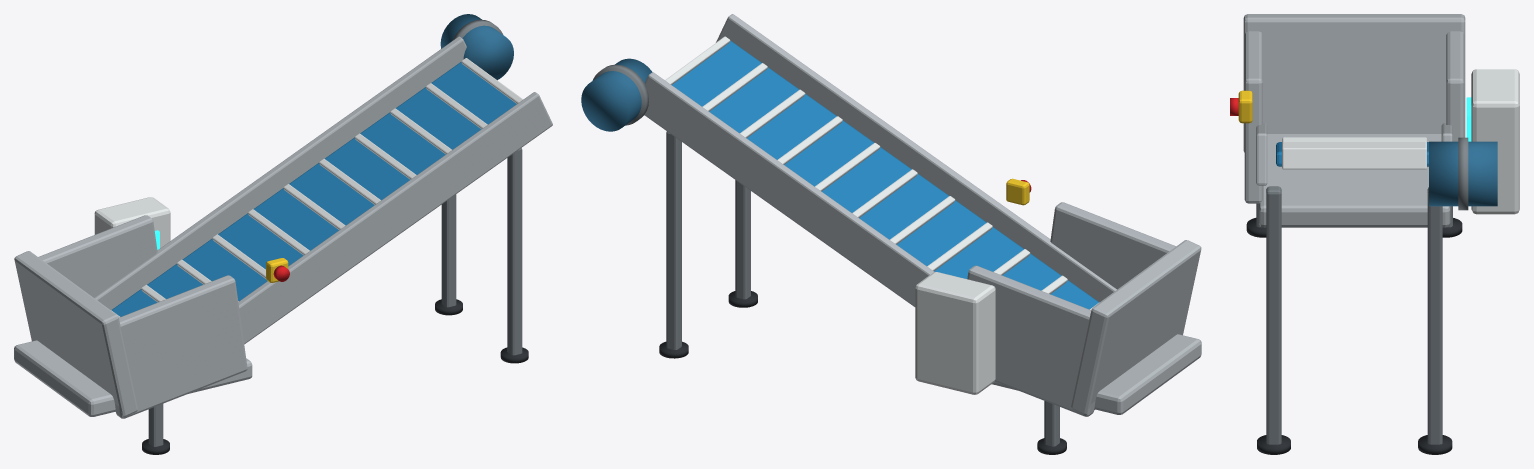
File: infeed-elevator.glb
3 views of the same model, side by side, from view 1: azimuth 30°, elevation 25°; view 2: azimuth 150°, elevation 25°; view 3: azimuth 270°, elevation 25° (orthographic). The views are drawn at different scales.
Visible parts, largest first — view 1: belt_surface, side_guard, hopper_side, side_guard.001, hopper_back, hopper_side.001, hopper_floor, leg_1.001, motor_body, cabinet, leg_2.001, leg_1 (+8 smaller); view 2: belt_surface, side_guard.001, side_guard, hopper_back, hopper_side.001, cabinet, hopper_side, hopper_floor, leg_2.001, motor_body, leg_1.001, motor_cap (+9 smaller); view 3: hopper_back, hopper_floor, cabinet, leg_1.001, motor_body, leg_2.001, cleat_11, hopper_side, hopper_side.001, motor_cap, side_guard, foot_2.001 (+2 smaller).
Part boxes in pixels (bbox=[...]): belt_surface: bbox=[111, 62, 516, 316]; side_guard: bbox=[238, 92, 552, 344]; hopper_side: bbox=[115, 275, 247, 418]; side_guard.001: bbox=[94, 36, 466, 309]; hopper_back: bbox=[14, 251, 137, 416]; hopper_side.001: bbox=[38, 215, 157, 297]; hopper_floor: bbox=[14, 340, 252, 416]; leg_1.001: bbox=[507, 148, 522, 355]; motor_body: bbox=[440, 14, 513, 80]; cabinet: bbox=[94, 197, 170, 248]; leg_2.001: bbox=[441, 194, 456, 307]; leg_1: bbox=[148, 404, 163, 446]; belt_surface: bbox=[672, 40, 1098, 309]; side_guard.001: bbox=[644, 72, 934, 306]; side_guard: bbox=[716, 14, 1116, 302]; hopper_back: bbox=[1071, 240, 1201, 415]; hopper_side.001: bbox=[967, 265, 1095, 416]; cabinet: bbox=[915, 272, 995, 394]; hopper_side: bbox=[1050, 202, 1175, 289]; hopper_floor: bbox=[992, 334, 1201, 414]; leg_2.001: bbox=[666, 131, 681, 349]; motor_body: bbox=[581, 58, 652, 131]; leg_1.001: bbox=[735, 180, 750, 299]; motor_cap: bbox=[592, 64, 648, 125]; hopper_back: bbox=[1243, 14, 1465, 152]; hopper_floor: bbox=[1259, 134, 1450, 227]; cabinet: bbox=[1471, 69, 1519, 214]; leg_1.001: bbox=[1266, 186, 1281, 444]; motor_body: bbox=[1429, 141, 1497, 206]; leg_2.001: bbox=[1427, 187, 1442, 444]; cleat_11: bbox=[1282, 147, 1426, 169]; hopper_side: bbox=[1244, 31, 1262, 203]; hopper_side.001: bbox=[1446, 31, 1464, 141]; motor_cap: bbox=[1458, 137, 1468, 210]; side_guard: bbox=[1256, 123, 1267, 185]; foot_2.001: bbox=[1418, 435, 1452, 454].
Bounding box in the file's own units: 3.49 × 1.81 × 1.44.
